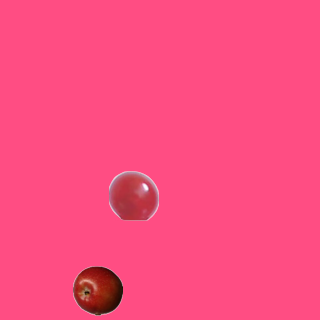Apple Braeburn: (72, 265, 122, 315)
Redcurrant: (108, 170, 158, 220)
